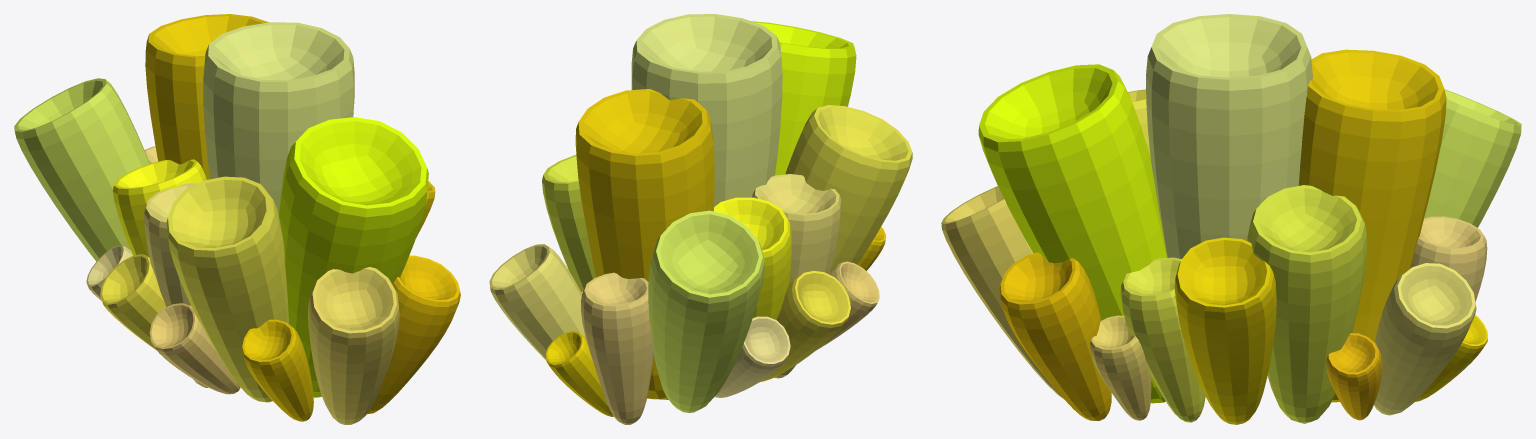
Rendered from Koraal_2.fbx.
3 renders of one model, left to right at view 1: azimuth 30°, elevation 25°; view 2: azimuth 150°, elevation 25°; view 3: azimuth 270°, elevation 25°, orthographic. The views are drawn at different scales.
Visible parts, largest first — view 1: Koraal; view 2: Koraal; view 3: Koraal.
Boxes of the visible parts, left/top/right/bottom form: Koraal: left=14, top=14, right=460, bottom=424; Koraal: left=489, top=14, right=912, bottom=424; Koraal: left=941, top=14, right=1521, bottom=424.
Size of the model in its own units: 571 by 579 by 850.
